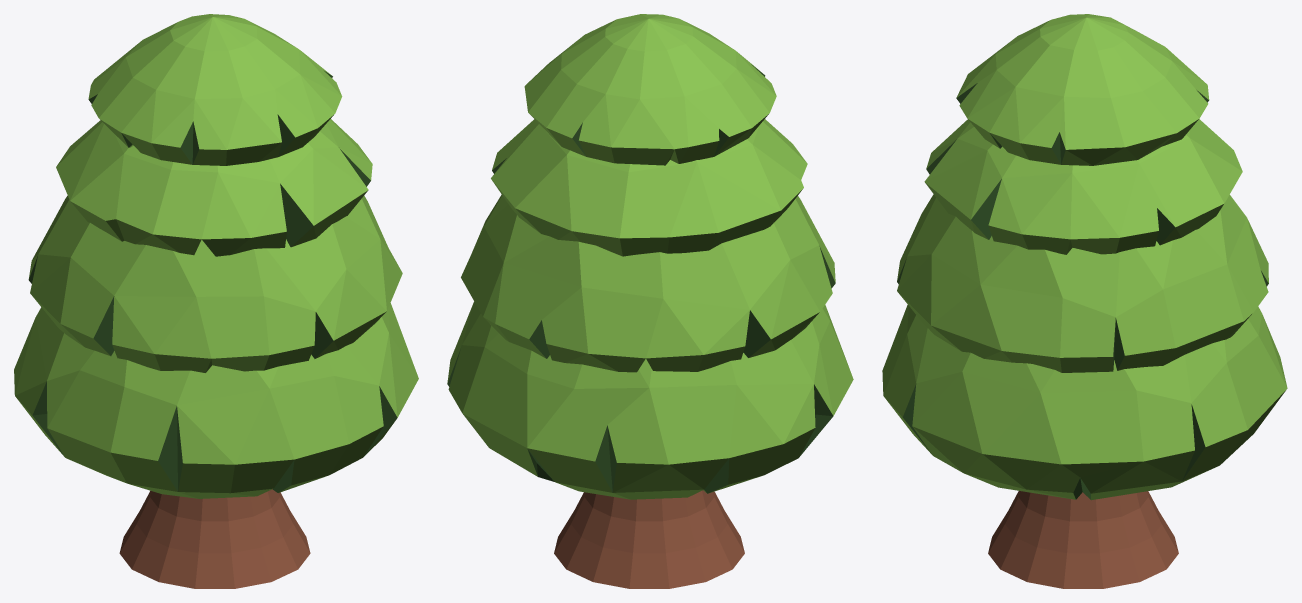
The model's file is TreeRoundPine_02.glb.
3 views of the same model, side by side, from view 1: azimuth 30°, elevation 25°; view 2: azimuth 150°, elevation 25°; view 3: azimuth 270°, elevation 25° (orthographic).
Visible parts, largest first — view 1: TreeRoundPine_02; view 2: TreeRoundPine_02; view 3: TreeRoundPine_02.
Boxes of the visible parts, x1,y1,x2,y2 form: TreeRoundPine_02: (14,14,418,588); TreeRoundPine_02: (447,14,853,588); TreeRoundPine_02: (882,14,1287,588).
Size of what is drawn, in the model's own units: 3.1 by 4.48 by 3.09.
1 material, 1 textured.
